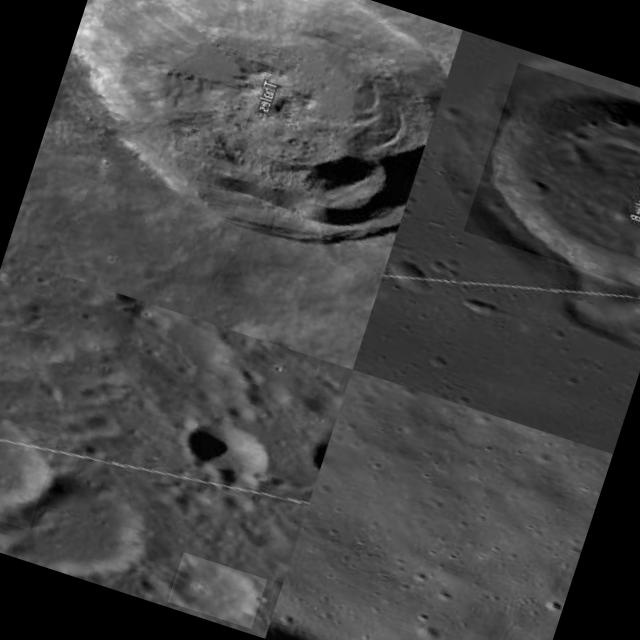crater: (37, 0, 462, 274), (464, 62, 640, 296), (168, 552, 268, 629), (0, 404, 59, 529), (180, 414, 276, 486)
